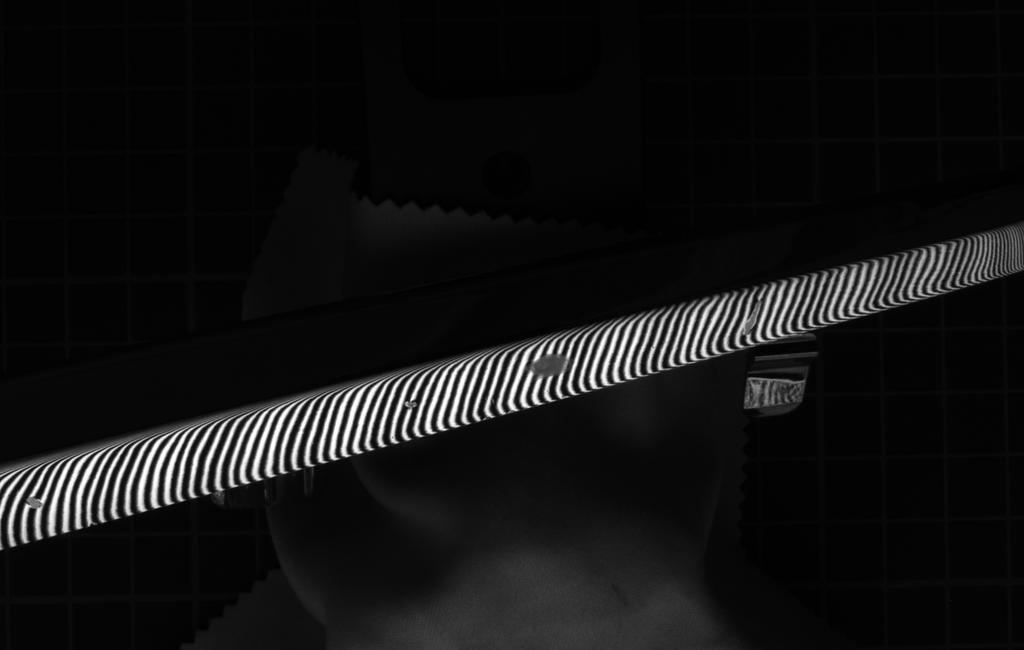Pierced: (401, 395, 426, 413), (22, 493, 44, 513)
Pitting: (524, 348, 573, 382)
Scratch: (738, 295, 766, 341)
